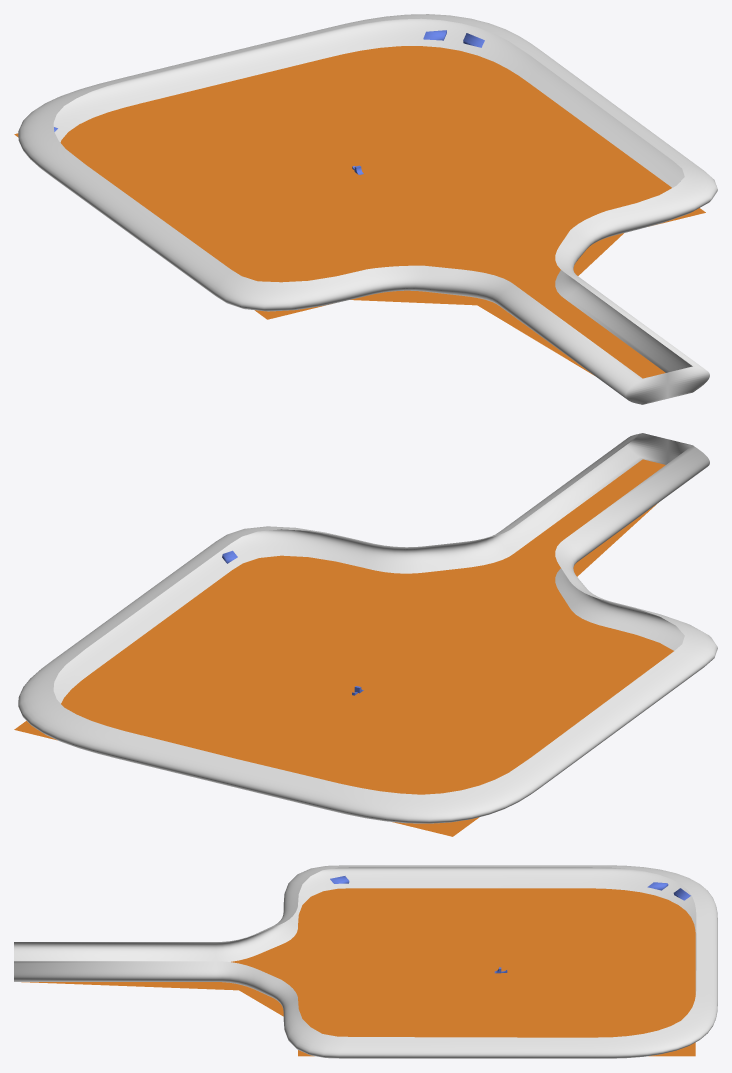
File: CurvedWall.fbx
3 renders of one model, top to bottom at view 1: azimuth 30°, elevation 25°; view 2: azimuth 150°, elevation 25°; view 3: azimuth 270°, elevation 25°, orthographic. The views are drawn at different scales.
Visible parts, largest first — view 1: Ground, CurvedWall; view 2: Ground, CurvedWall; view 3: Ground, CurvedWall, CurvedRamps.
Part boxes in pixels (box(x1,y1,x2,y2)): Ground: box(14, 46, 705, 378); CurvedWall: box(18, 14, 717, 404); Ground: box(14, 459, 673, 836); CurvedWall: box(18, 433, 717, 823); Ground: box(21, 888, 695, 1056); CurvedWall: box(14, 865, 717, 1058); CurvedRamps: box(330, 876, 690, 900).
Bounding box in the file's own units: 39343 × 2000 × 61963.
